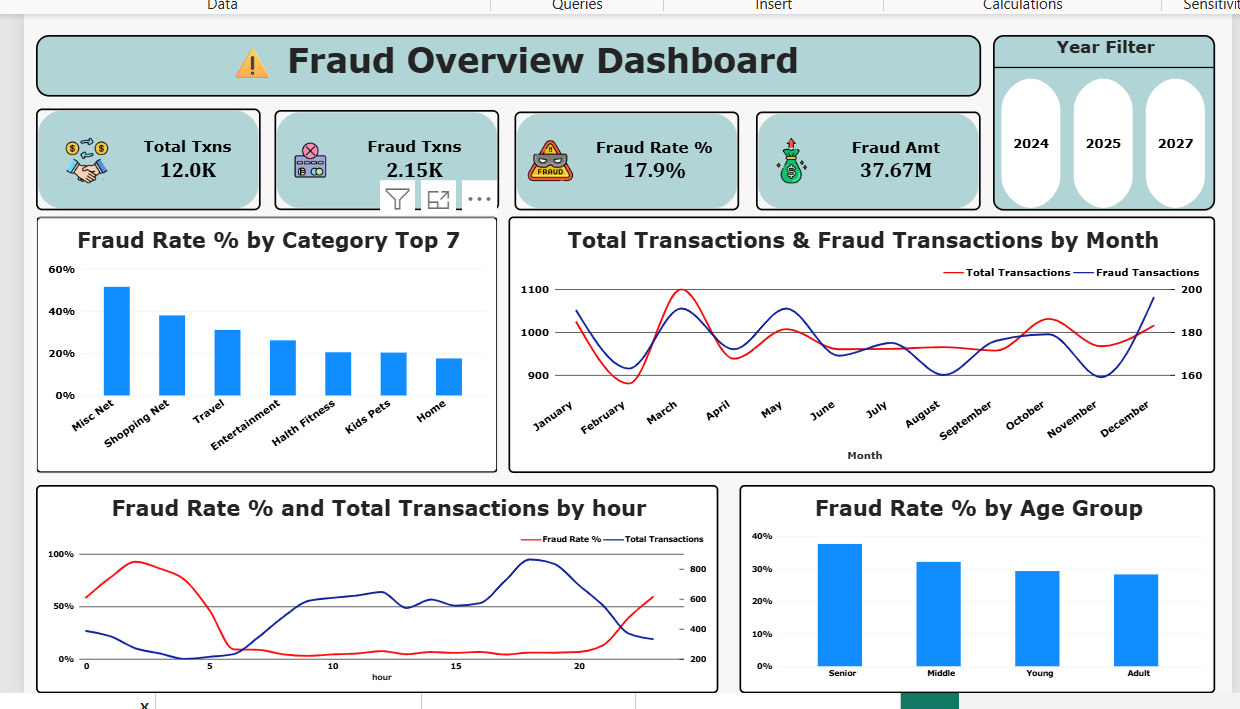

The page's visual inventory and layout, read from the dashboard file:
{"tool":"powerbi","page":{"name":"Fraud Overview","canvas":[1920,1080],"ordinal":0},"visuals":[{"type":"cardVisual","fields":{"Data":["Fraud Overview DAX.Total Transactions"]},"box":[19.1,150.3,357.9,162.2],"z":0},{"type":"cardVisual","fields":{"Data":["Fraud Overview DAX.Fraud Tansactions"]},"box":[398.4,152.7,357.9,159.9],"z":1000},{"type":"cardVisual","fields":{"Data":["Fraud Overview DAX.Fraud Rate %"]},"box":[780.2,155.1,357.9,157.5],"z":2000},{"type":"cardVisual","fields":{"Data":["Fraud Overview DAX.Fraud Amt"]},"box":[1164.3,155.1,357.9,157.5],"z":3000},{"type":"textbox","box":[19.1,33.4,1503.1,97.8],"z":4000},{"type":"columnChart","title":"Fraud Rate % by Category Top 7","fields":{"Category":["Merchants.category"],"Y":["Fraud Overview DAX.Fraud Rate %"]},"box":[19.1,322.1,734.9,408],"z":5000},{"type":"lineChart","fields":{"Category":["Transactions.hour"],"Y":["Fraud Overview DAX.Fraud Rate %"],"Y2":["Fraud Overview DAX.Total Transactions"]},"box":[19.1,749.2,1085.6,331.6],"z":6000},{"type":"lineChart","title":"Total Transactions & Fraud Transactions by Month","fields":{"Category":["Transactions.trans_date.Variation.Date Hierarchy.Month"],"Y":["Fraud Overview DAX.Total Transactions"],"Y2":["Fraud Overview DAX.Fraud Tansactions"]},"box":[770.7,322.1,1123.8,408],"z":7000},{"type":"advancedSlicerVisual","title":"Year Filter","fields":{"Values":["Transactions.trans_date.Variation.Date Hierarchy.Year"]},"box":[1541.3,33.4,353.1,279.2],"z":8000},{"type":"columnChart","title":"Fraud Rate % by Age Group","fields":{"Y":["Fraud Overview DAX.Fraud Rate %"],"Category":["Customers.age_group"]},"box":[1138.1,749.2,756.3,331.6],"z":9000}]}

Visuals, with their boxes on the page's 1920x1080 design canvas (x1, y1, x2, y2). These are canvas units, not pixel positions in the 1240x709 screenshot, which may show the page scaled, cropped or inside an application window:
cardVisual - Fraud Overview DAX.Total Transactions: {"left": 19, "top": 150, "right": 377, "bottom": 312}
cardVisual - Fraud Overview DAX.Fraud Tansactions: {"left": 398, "top": 153, "right": 756, "bottom": 313}
cardVisual - Fraud Overview DAX.Fraud Rate %: {"left": 780, "top": 155, "right": 1138, "bottom": 313}
cardVisual - Fraud Overview DAX.Fraud Amt: {"left": 1164, "top": 155, "right": 1522, "bottom": 313}
textbox: {"left": 19, "top": 33, "right": 1522, "bottom": 131}
"Fraud Rate % by Category Top 7" columnChart: {"left": 19, "top": 322, "right": 754, "bottom": 730}
lineChart - Transactions.hour x Fraud Overview DAX.Fraud Rate %: {"left": 19, "top": 749, "right": 1105, "bottom": 1081}
"Total Transactions & Fraud Transactions by Month" lineChart: {"left": 771, "top": 322, "right": 1894, "bottom": 730}
"Year Filter" advancedSlicerVisual: {"left": 1541, "top": 33, "right": 1894, "bottom": 313}
"Fraud Rate % by Age Group" columnChart: {"left": 1138, "top": 749, "right": 1894, "bottom": 1081}
